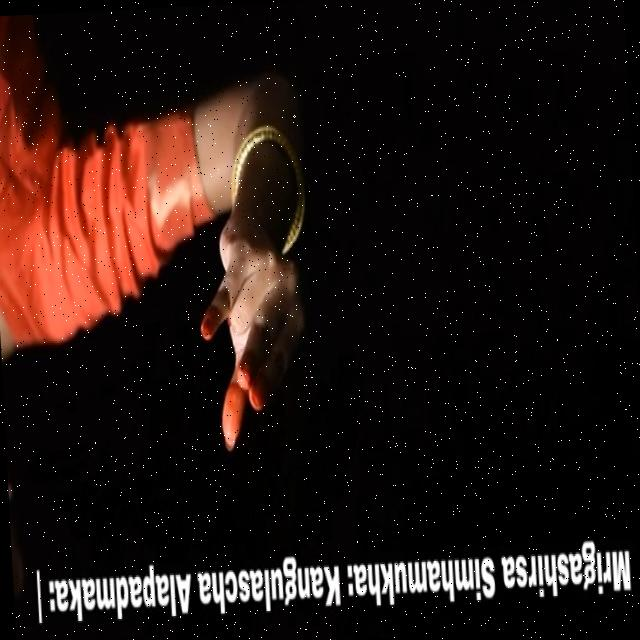Kangula: (173, 195, 308, 464)
bangle: (214, 112, 327, 238)
text: (29, 527, 640, 639)
